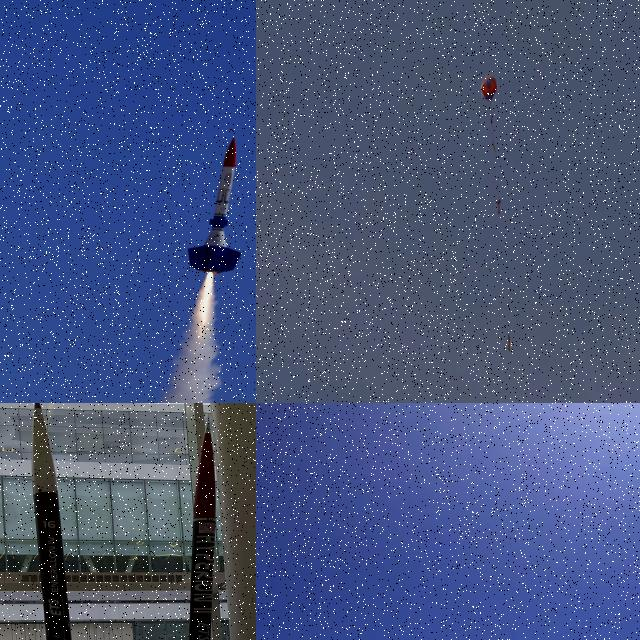Rocket: (31, 403, 72, 640), (187, 137, 243, 275), (189, 422, 216, 640), (507, 332, 512, 352)
